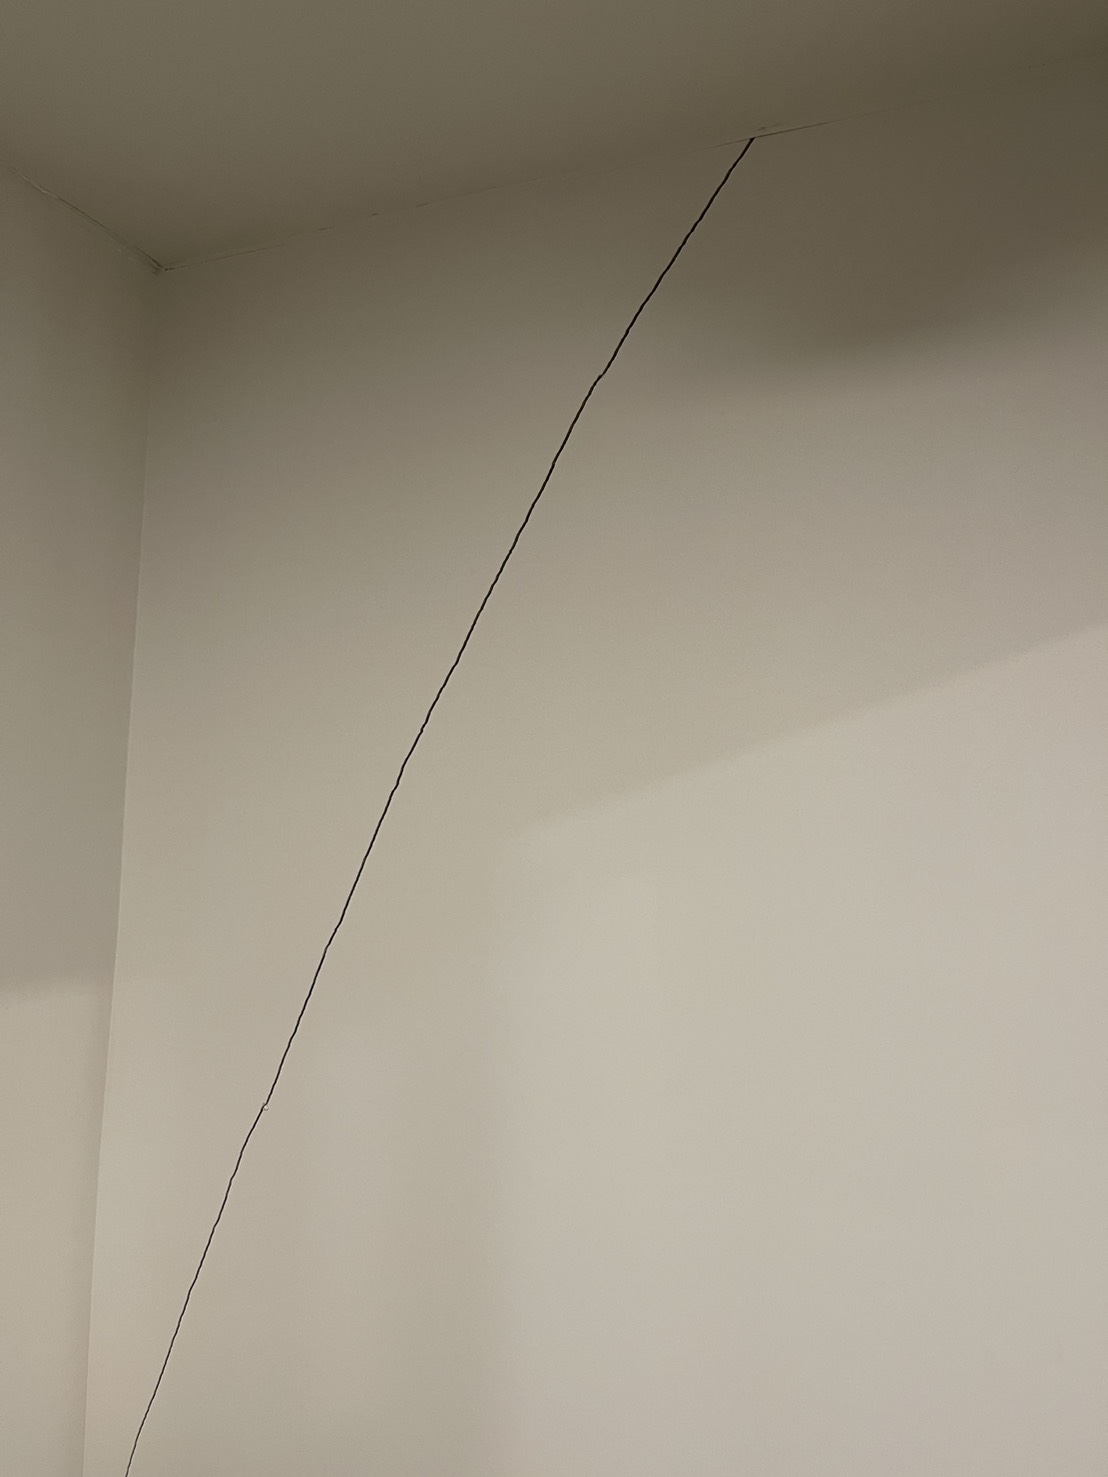Low: (128, 128, 800, 1475)
